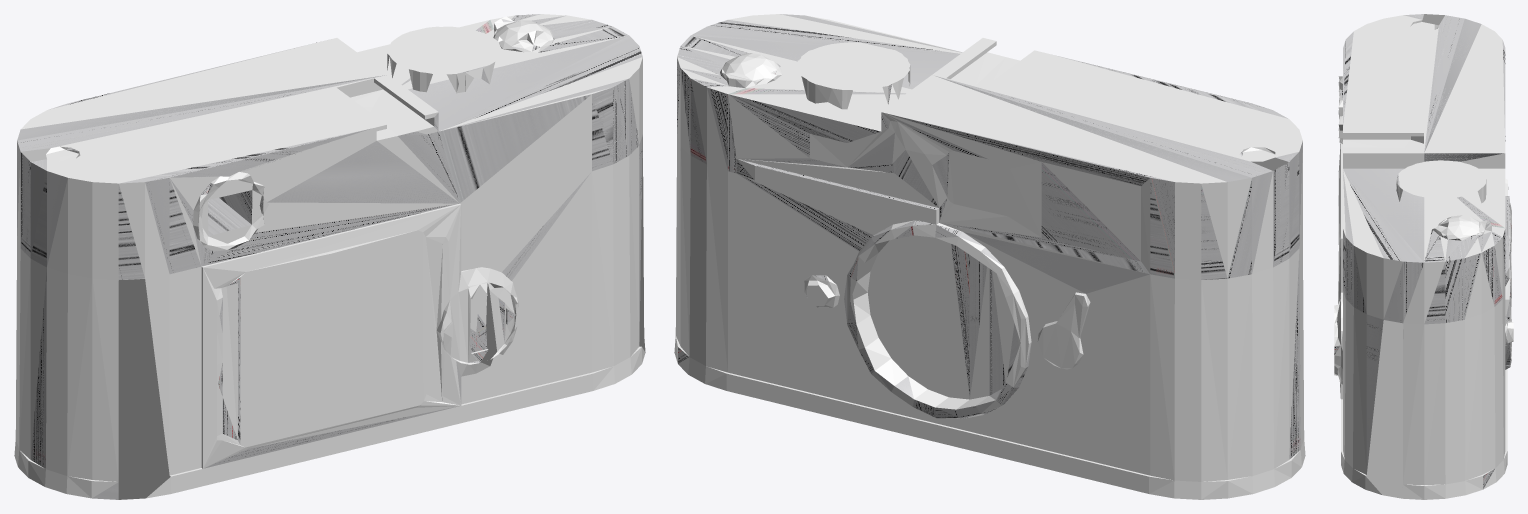
The model's file is model_align.obj.
3 views of the same model, side by side, from view 1: azimuth 30°, elevation 25°; view 2: azimuth 150°, elevation 25°; view 3: azimuth 270°, elevation 25° (orthographic). The views are drawn at different scales.
Bounding box in the file's own units: 0.144 × 0.0719 × 0.0464.
Materials: 4 (4 with a texture image).
